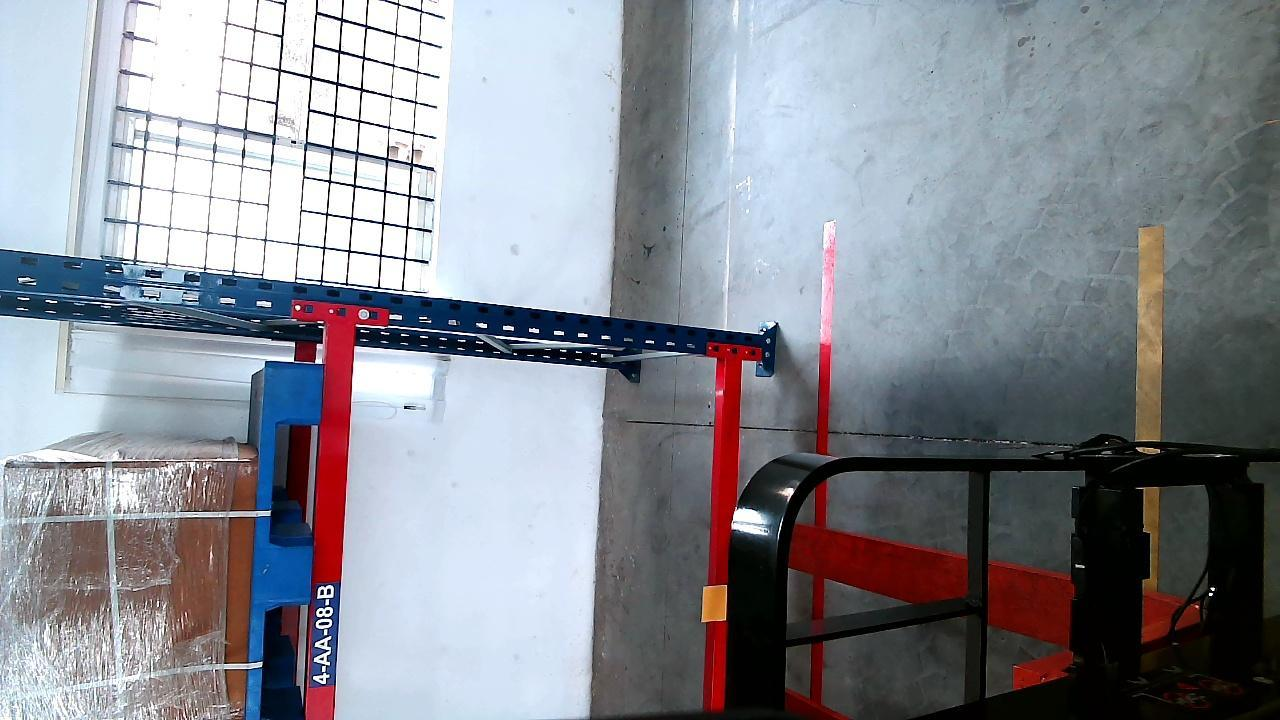red_line: (806, 224, 837, 702)
yellow_line: (1137, 222, 1163, 442)
